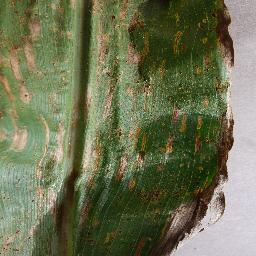Gray_Leaf_Spot: (0, 0, 247, 256)
